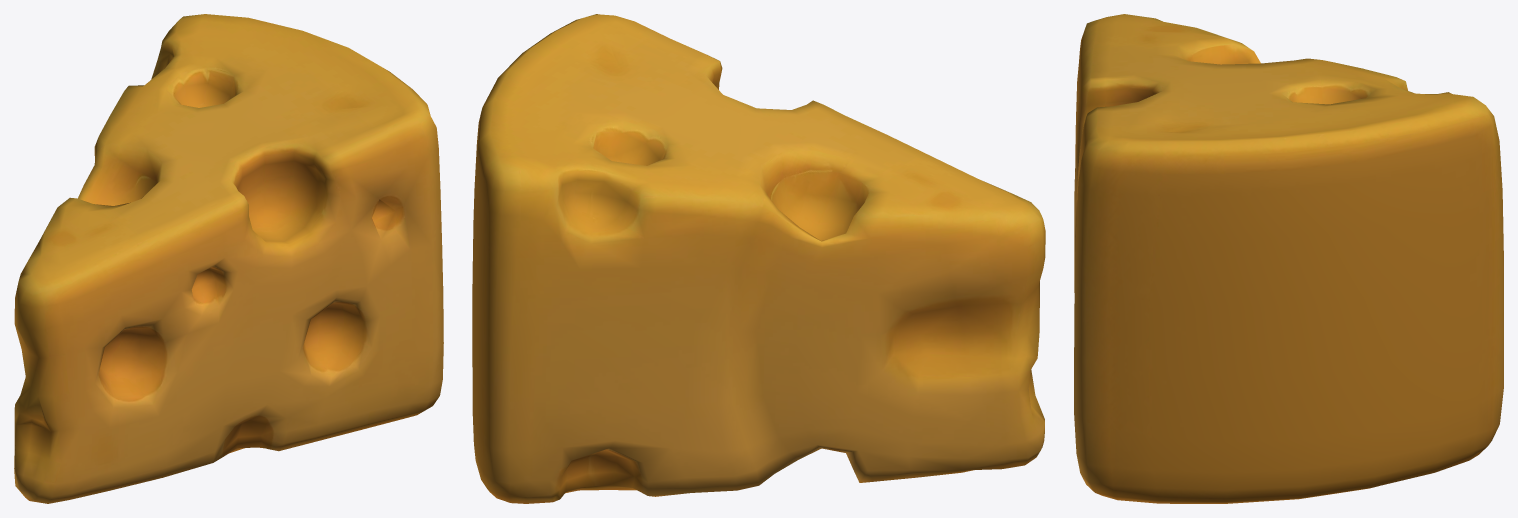
Rendered from cheese.glb.
3 views of the same model, side by side, from view 1: azimuth 30°, elevation 25°; view 2: azimuth 150°, elevation 25°; view 3: azimuth 270°, elevation 25° (orthographic). The views are drawn at different scales.
Visible parts, largest first — view 1: tripo_node_cb4fd872; view 2: tripo_node_cb4fd872; view 3: tripo_node_cb4fd872.
Boxes of the visible parts, box(x1,y1,x2,y2) form: tripo_node_cb4fd872: box(14, 14, 443, 503); tripo_node_cb4fd872: box(472, 14, 1045, 503); tripo_node_cb4fd872: box(1074, 14, 1503, 503).
Size of the model in its own units: 0.16 by 0.1112 by 0.1195.
Materials: 1 (1 with a texture image).
